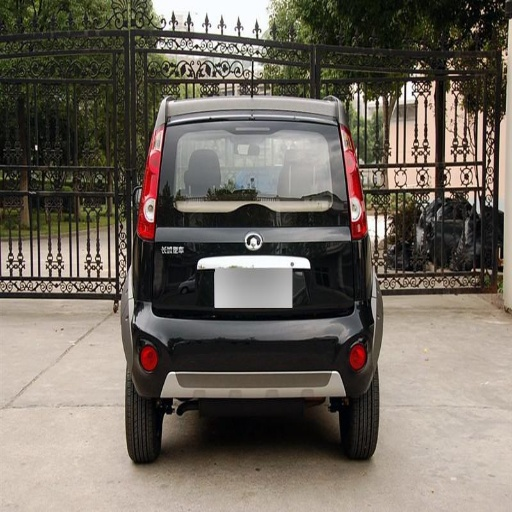back_bumper: (131, 299, 376, 394)
trunk: (154, 192, 363, 321)
